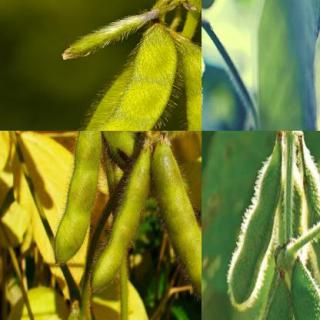soya: (71, 26, 177, 130), (90, 142, 152, 292), (226, 152, 282, 308), (152, 142, 201, 302), (53, 131, 101, 267), (63, 8, 153, 61), (169, 38, 201, 130), (304, 149, 319, 297), (243, 285, 292, 319), (99, 131, 136, 164)
